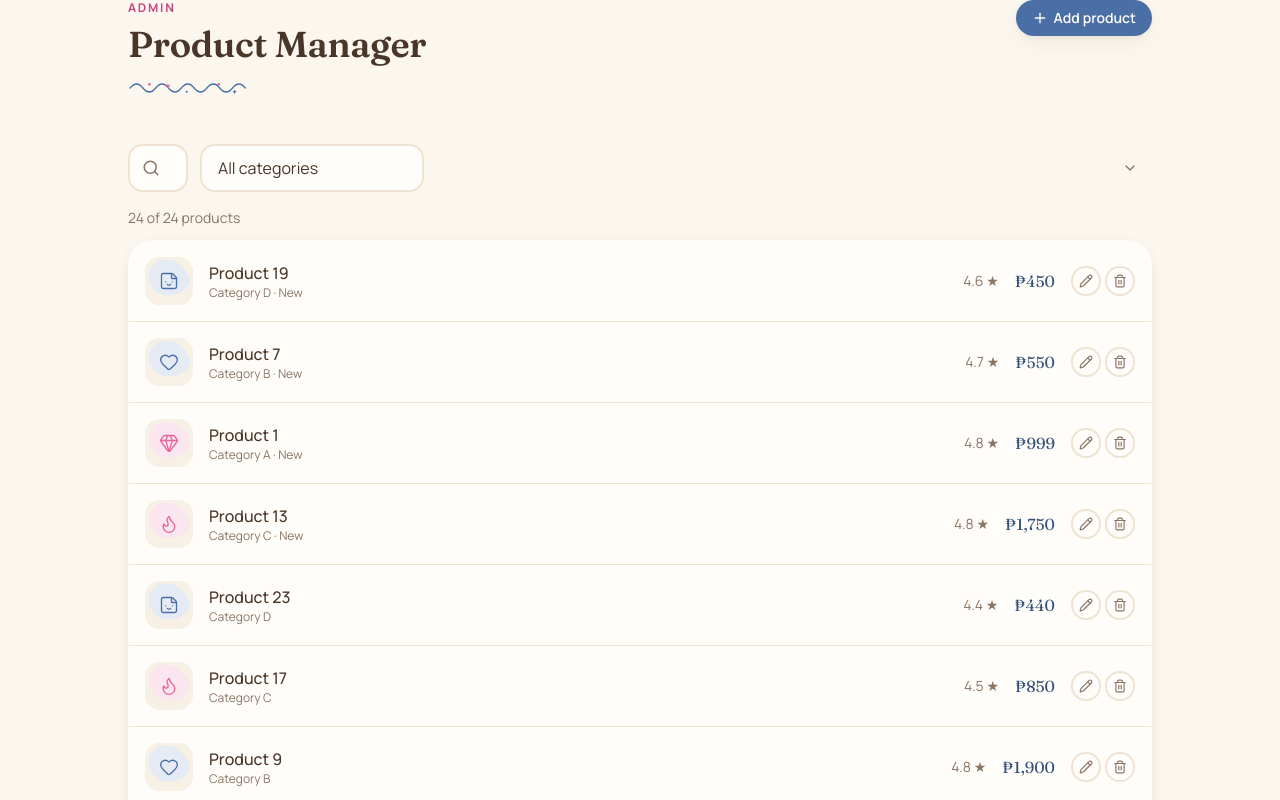
ProductManager › creates a new product end-to-end and persists it to the backend
Click the button "Add product" at (1084, 18), box [1016,0,1152,36]
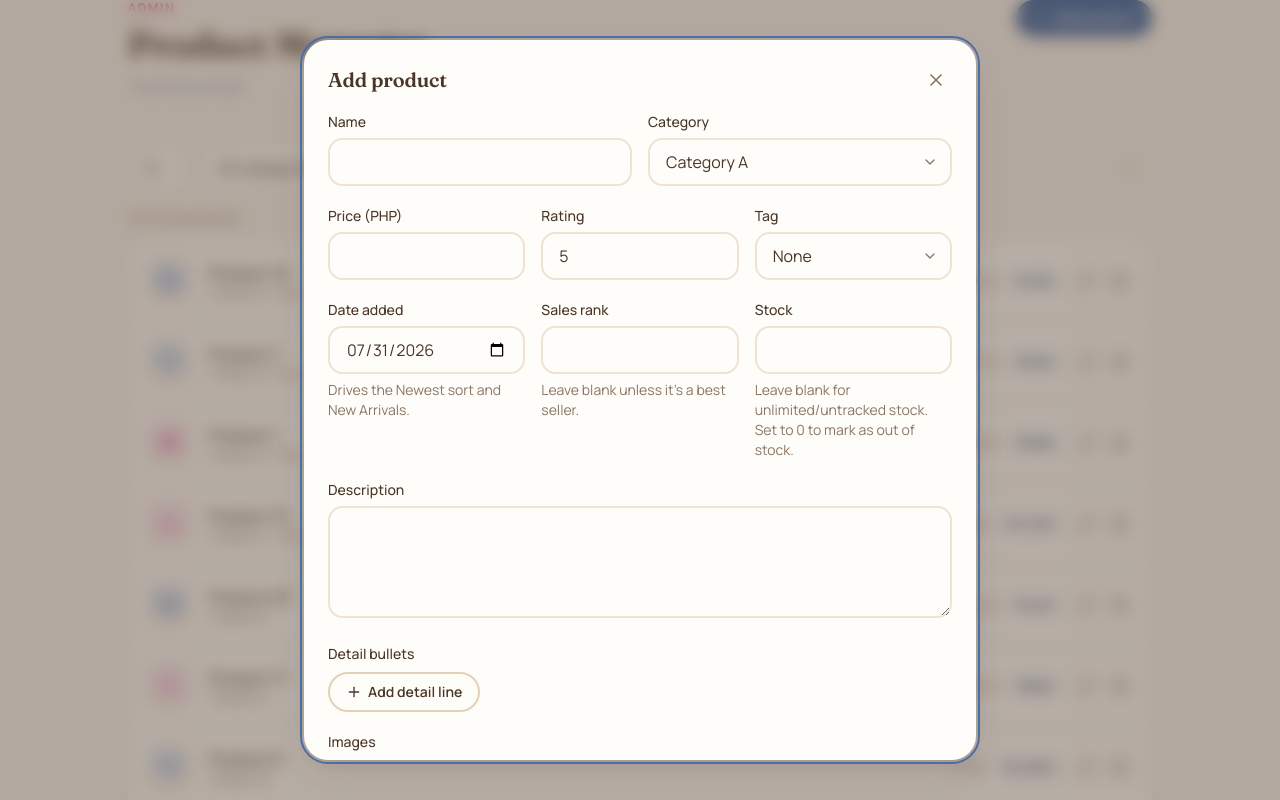
Type "Handmade Mug" into the field labelled "Name" at (480, 162), box [328,138,632,186]
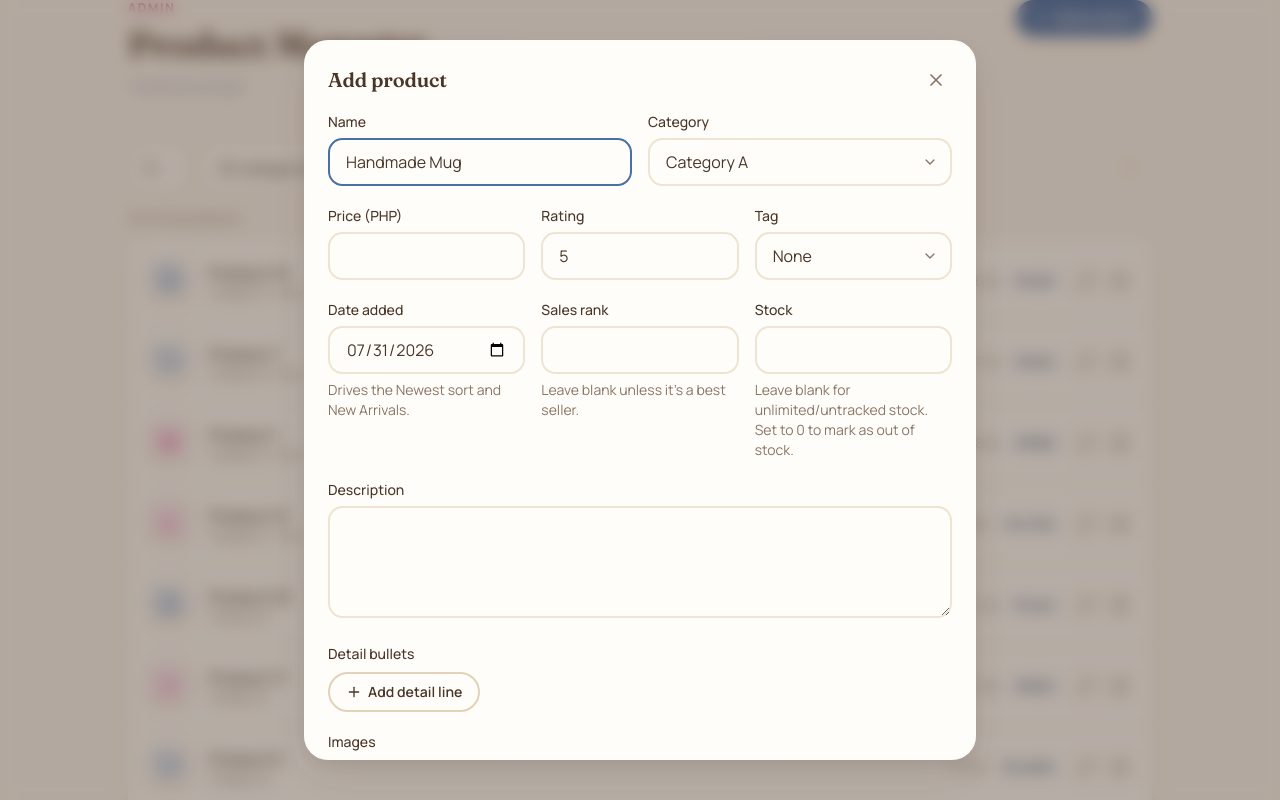
Type "450" into the number field labelled "Price (PHP)" at (427, 256), box [328,232,525,280]
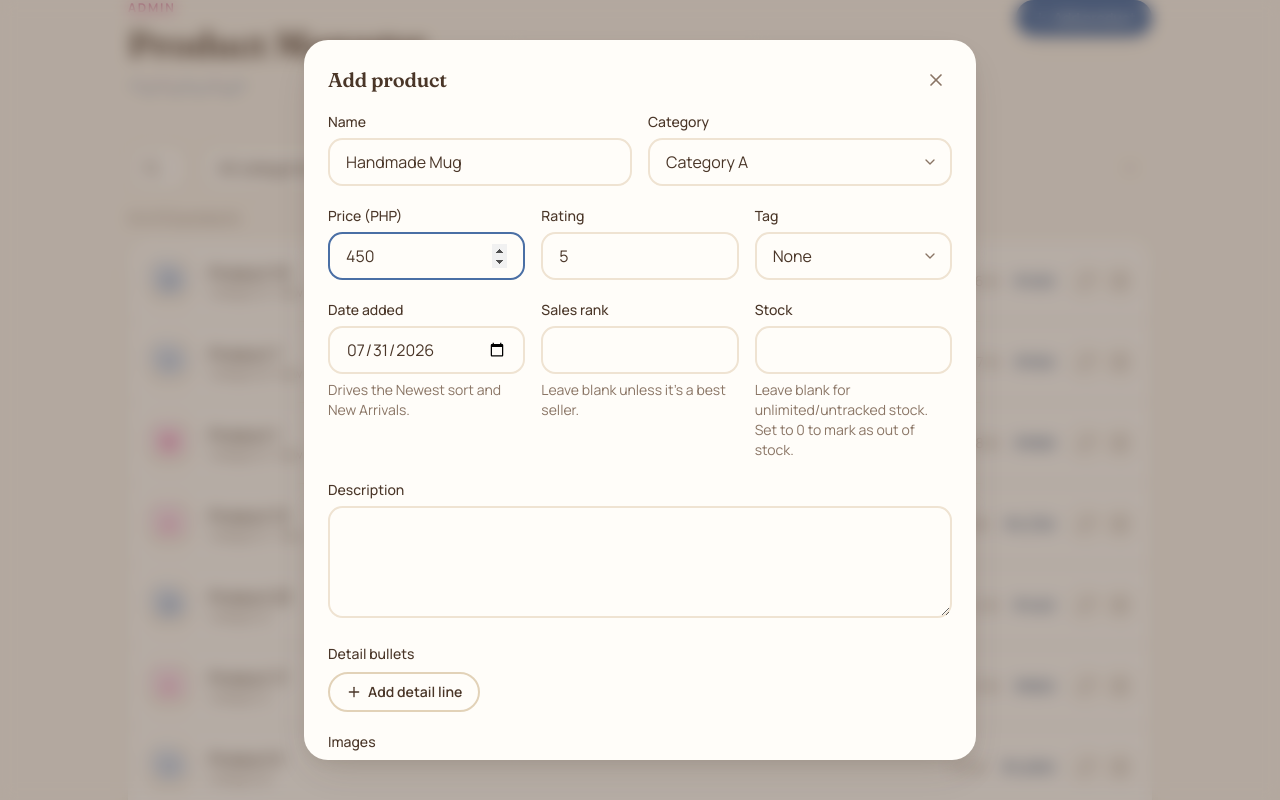
Type "A cozy handmade mug." into the text box labelled "Description" at (640, 562), box [328,506,952,618]
(page scrolled)
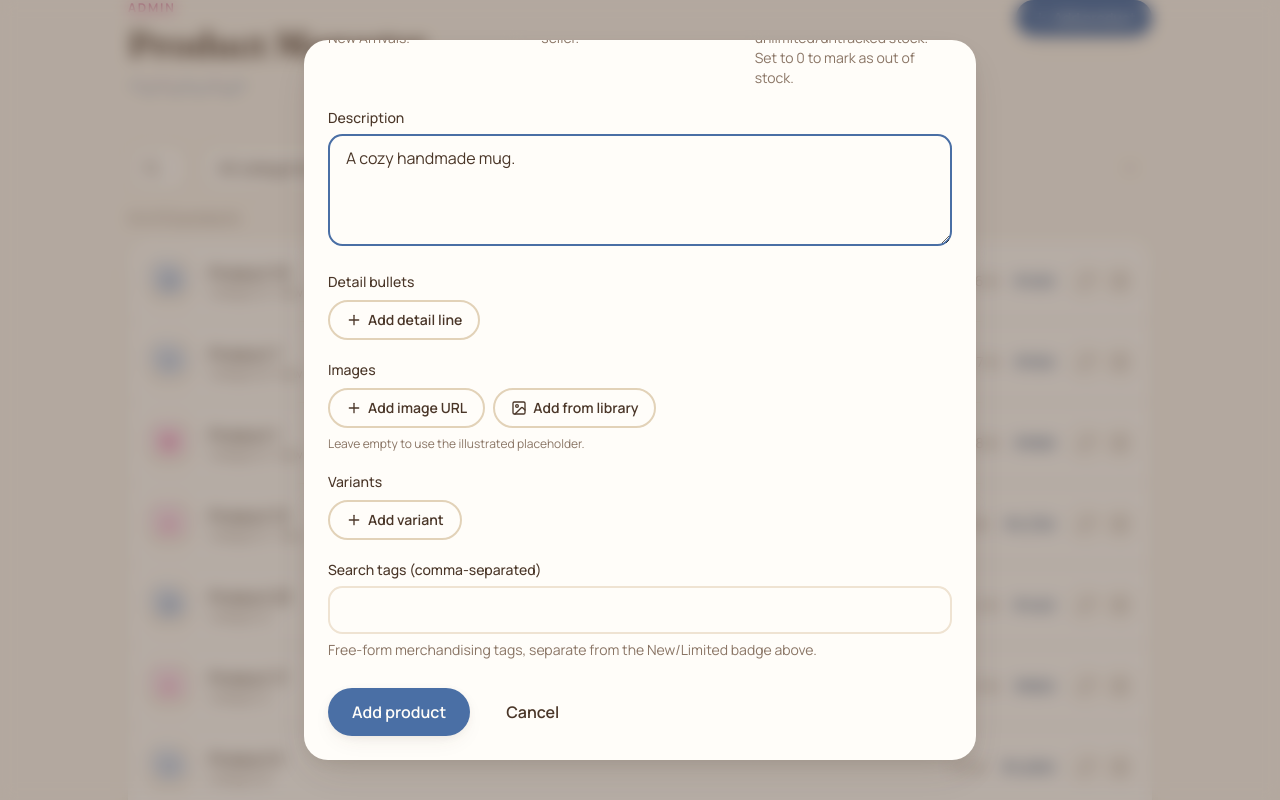
Click the button "Add product" at (399, 712), box [328,688,470,736]
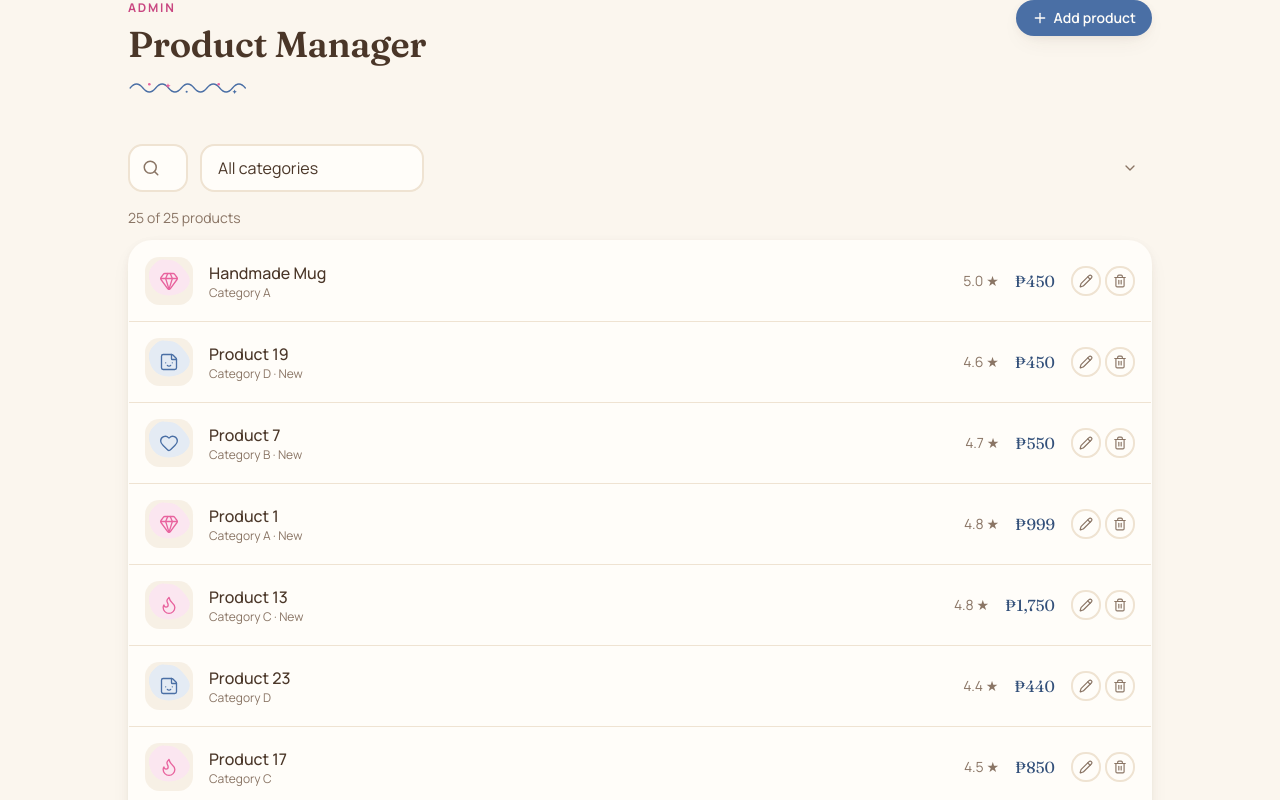
Now the text "Handmade Mug" is shown, box [209,262,326,284]
